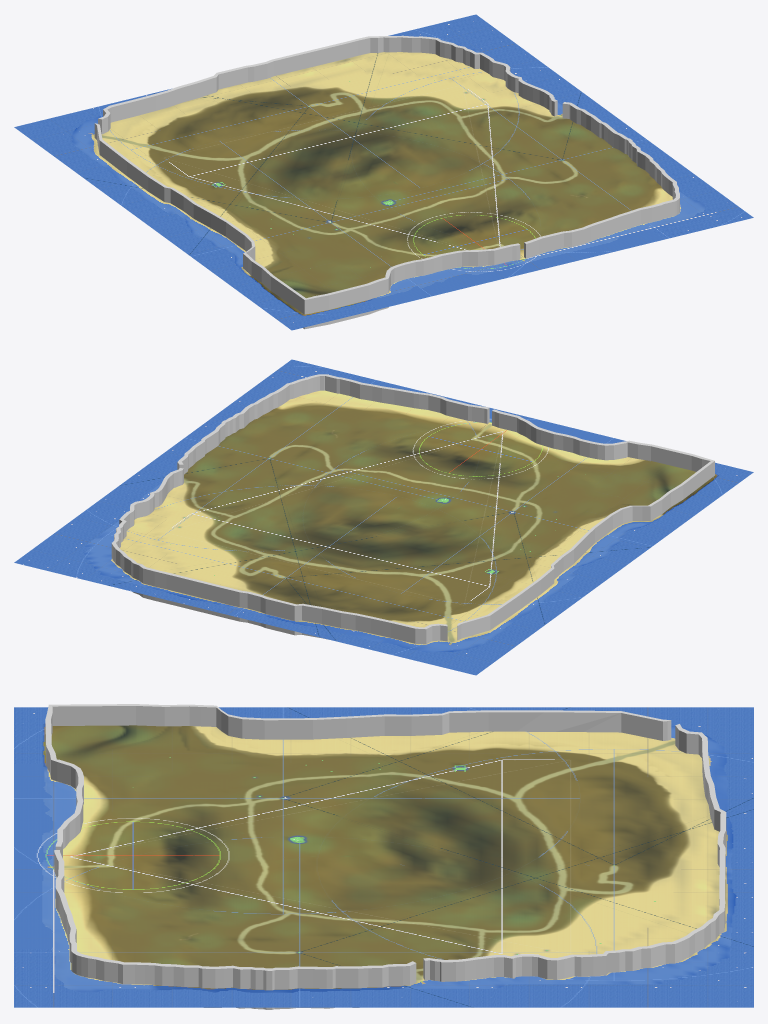
File: ajej.FBX
3 renders of one model, top to bottom at view 1: azimuth 30°, elevation 25°; view 2: azimuth 150°, elevation 25°; view 3: azimuth 270°, elevation 25°, orthographic. The views are drawn at different scales.
Parts seen in each view (by area): view 1: Plane001, Plane002; view 2: Plane001, Plane002; view 3: Plane001, Plane002.
Boxes of the visible parts, x1,y1,x2,y2 form: Plane001: [14, 14, 753, 330]; Plane002: [94, 35, 679, 329]; Plane001: [14, 359, 753, 675]; Plane002: [111, 374, 714, 644]; Plane001: [14, 707, 753, 1007]; Plane002: [45, 704, 726, 1009].
Bounding box in the file's own units: 1727 × 106 × 1798.
Materials: 1 (1 with a texture image).
